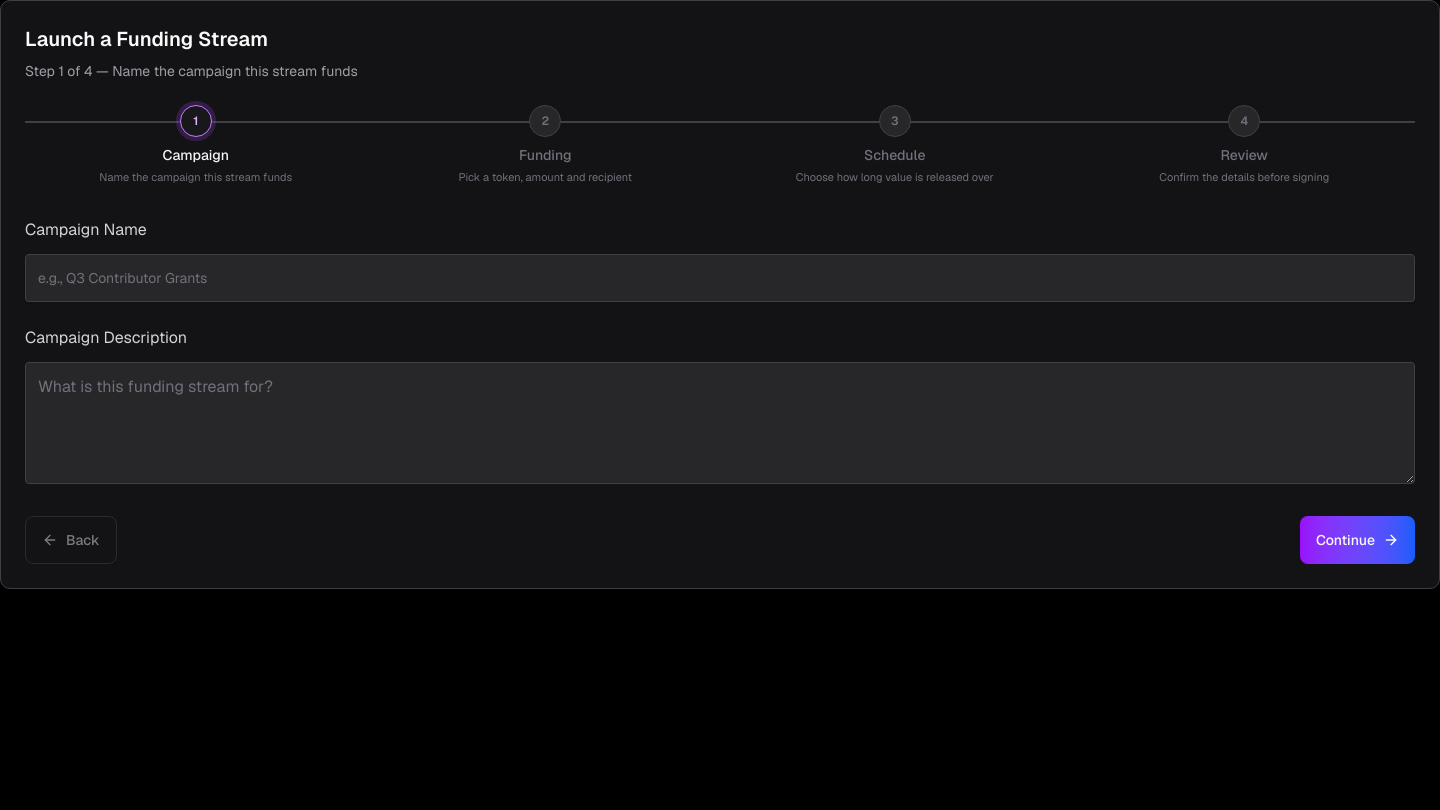
StreamWizard › validates the recipient address and amount before leaving the funding step
The width and height of the screenshot is (1440, 810).
Type "Q3 Contributor Grants" into the field labelled "Campaign Name".
click(720, 278); type("Q3 Contributor Grants")  # box [25,254,1415,302]
Click the button "Continue".
click(1357, 540)  # box [1300,516,1415,564]
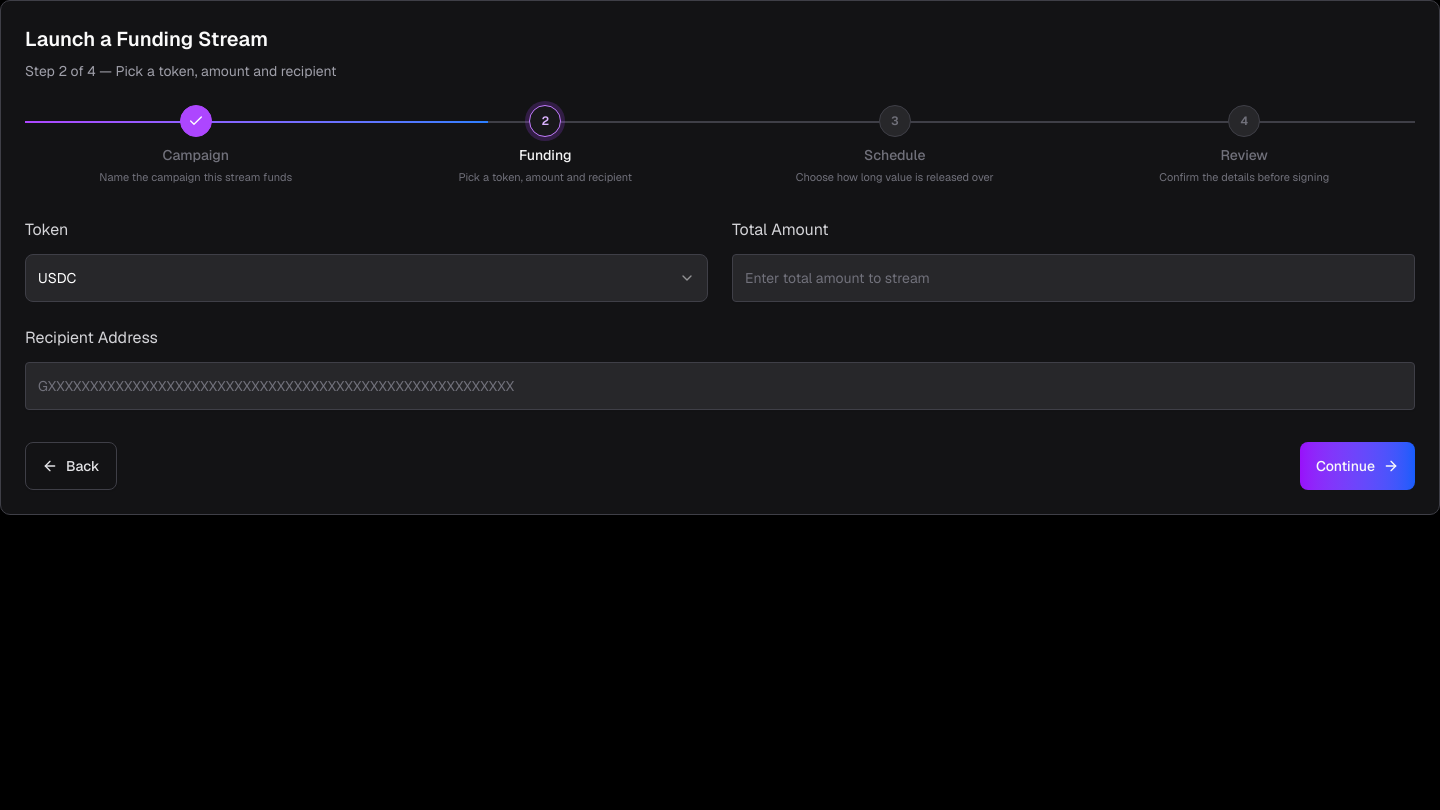
Type "not-a-stellar-address" into the field labelled "Recipient Address".
click(720, 386); type("not-a-stellar-address")  # box [25,362,1415,410]
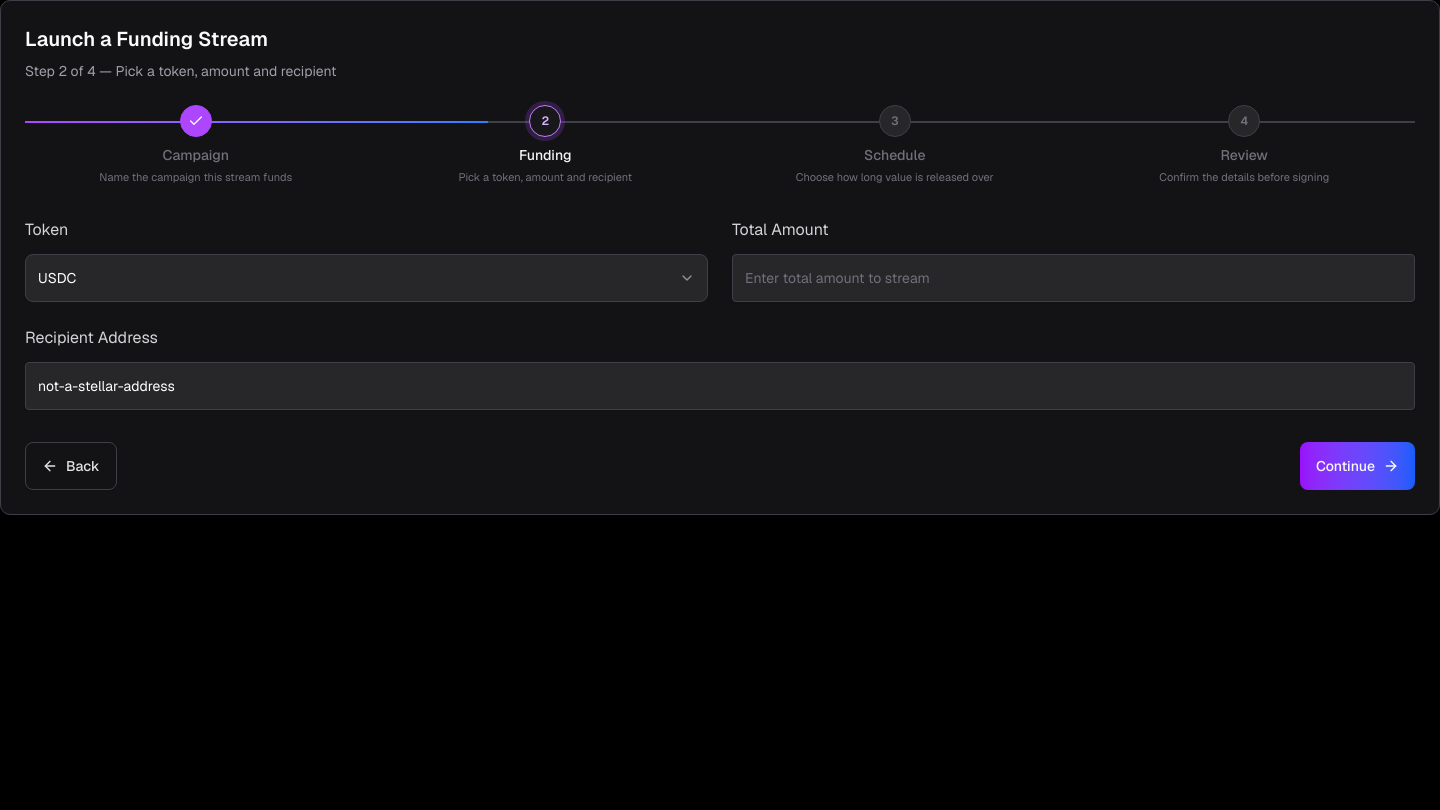
Click the button "Continue".
click(1357, 466)  # box [1300,442,1415,490]
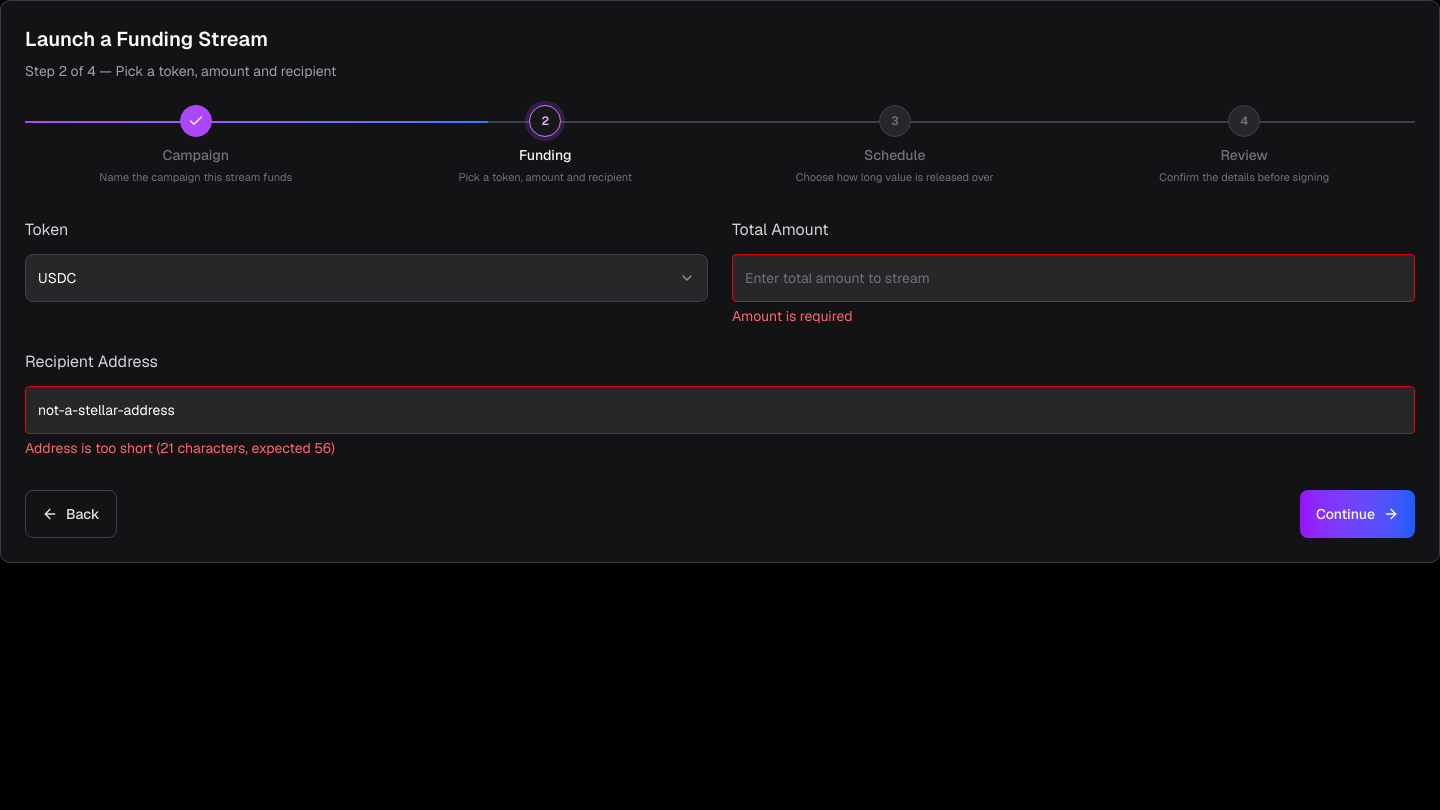
Now the text "Step 2 of 4 — Pick a token, amount and recipient" is shown, box [25,62,336,80]
Replace the text in the field labelled "Recipient Address" with "GAAAAAAAAAAAAAAAAAAAAAAAAAAAAAAAAAAAAAAAAAAAAAAAAAAAAWHF" at (720, 410), box [25,386,1415,434]
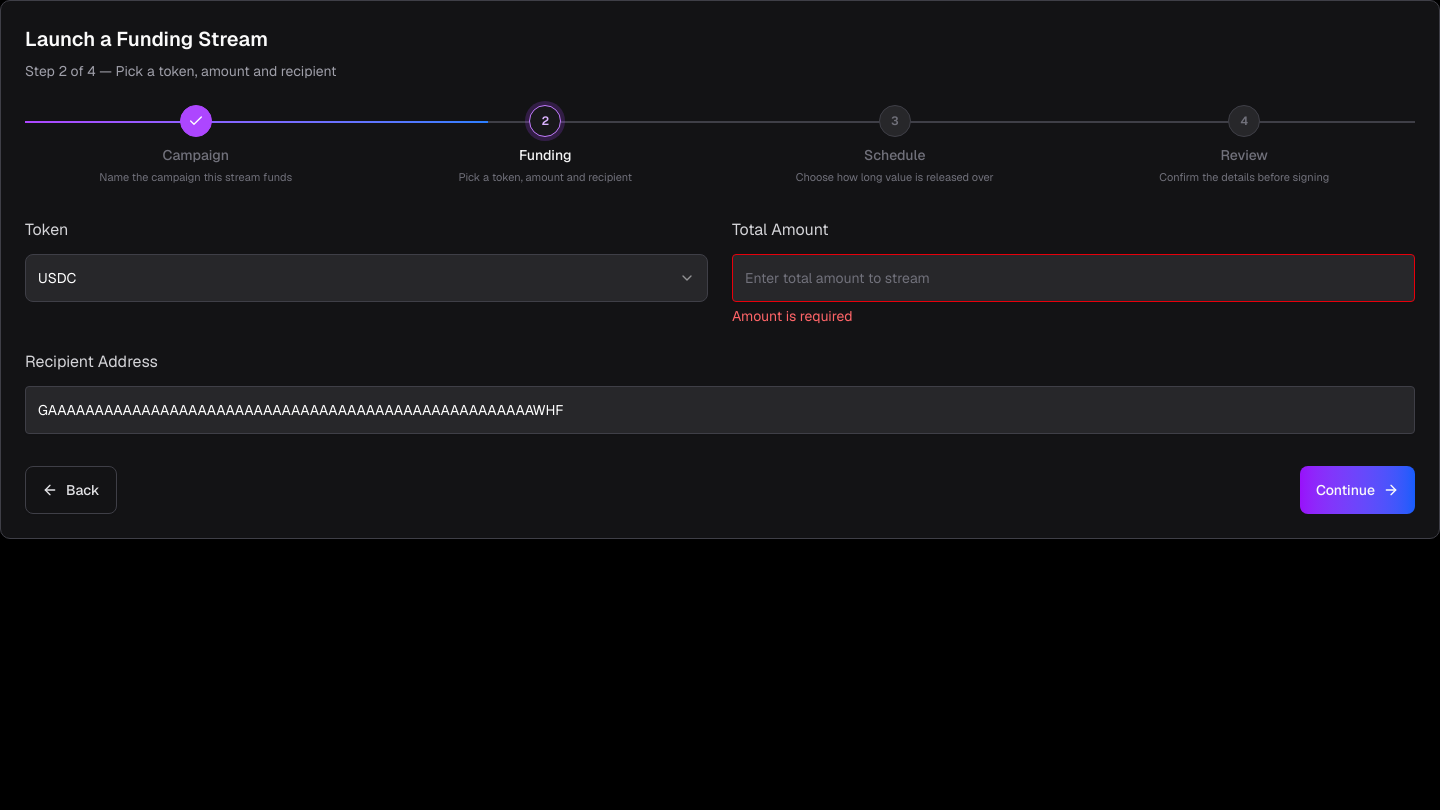
Type "1000" into the number field labelled "Total Amount".
click(1074, 278); type("1000")  # box [732,254,1415,302]
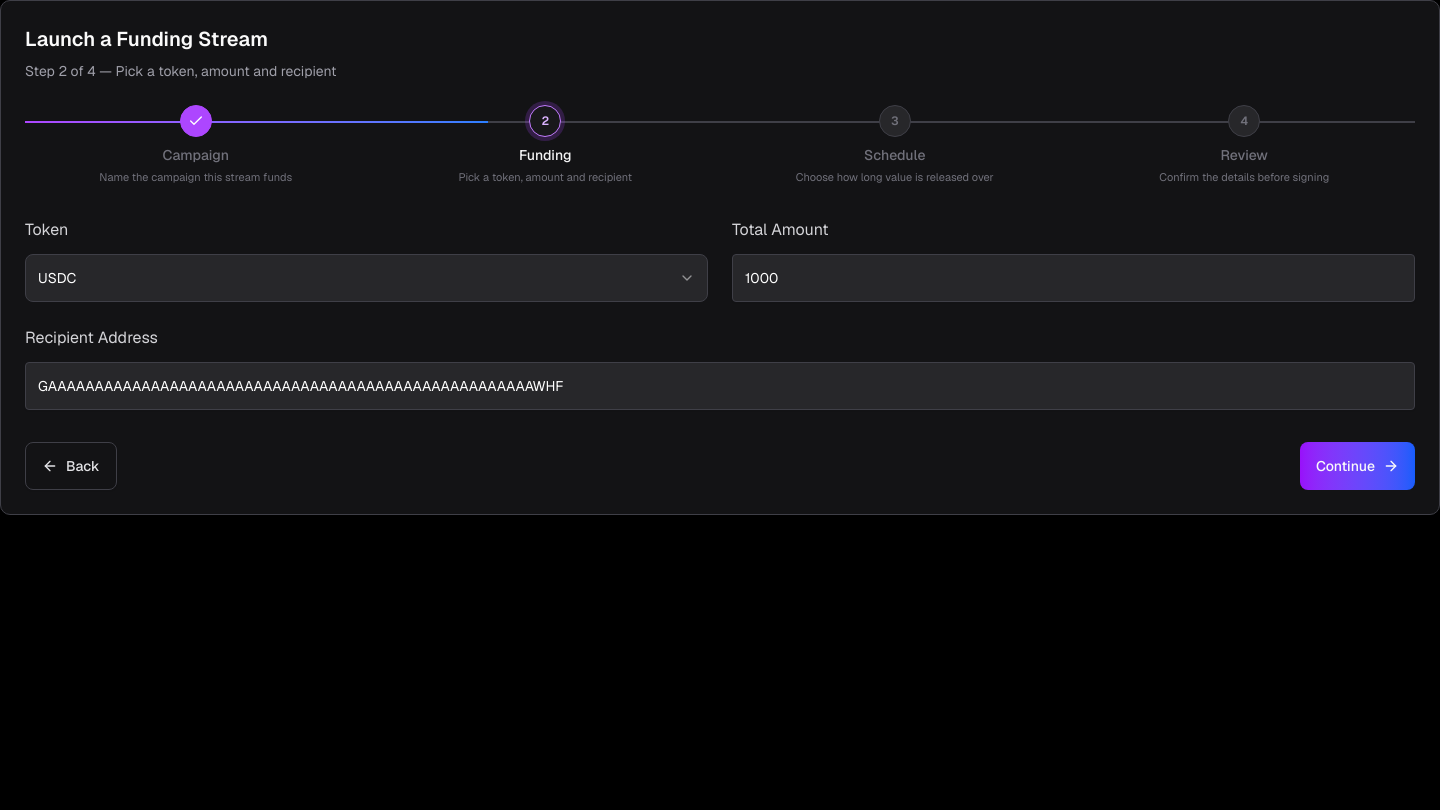
Click the button "Continue".
click(1357, 466)  # box [1300,442,1415,490]
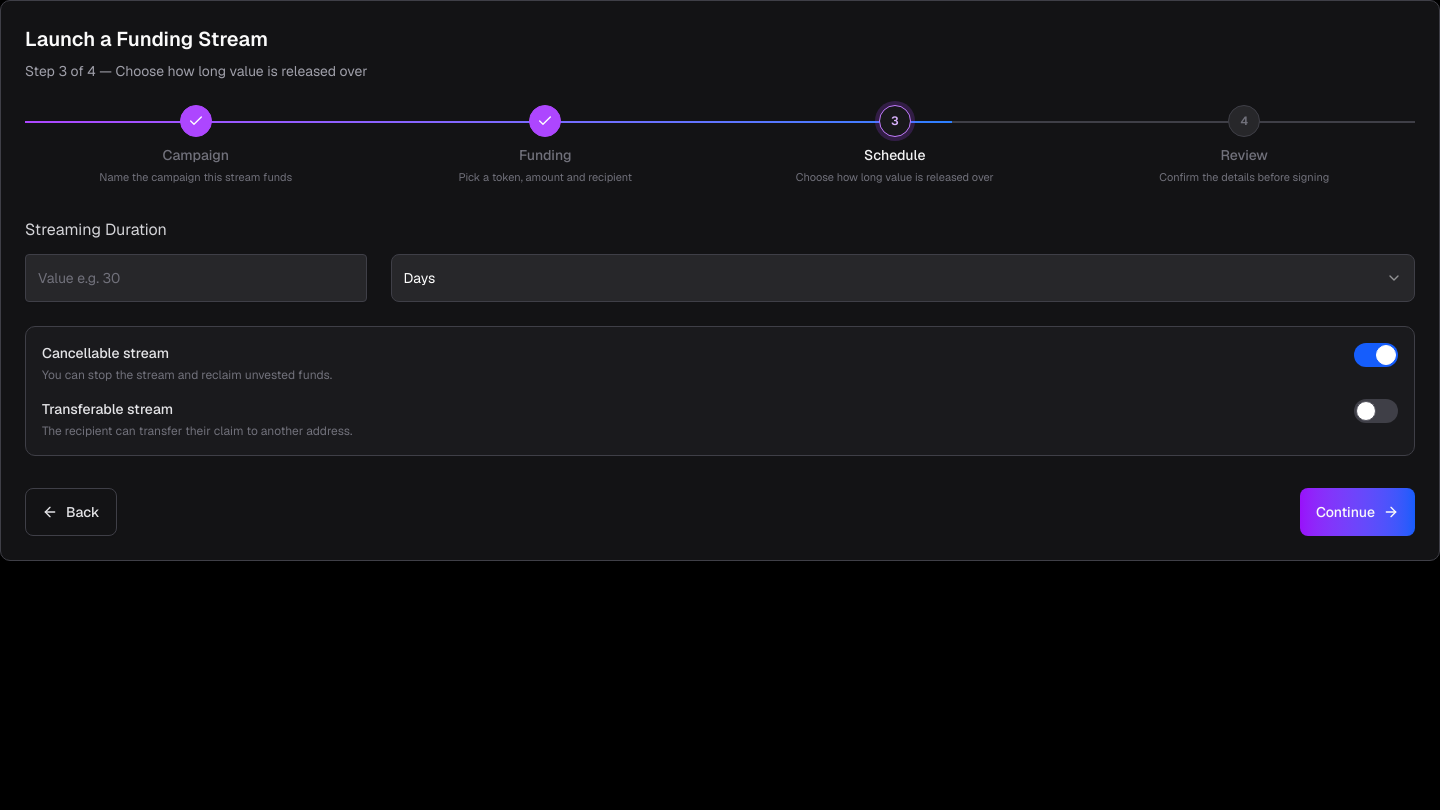
Now the text "Step 3 of 4 — Choose how long value is released over" is shown, box [25,62,368,80]
